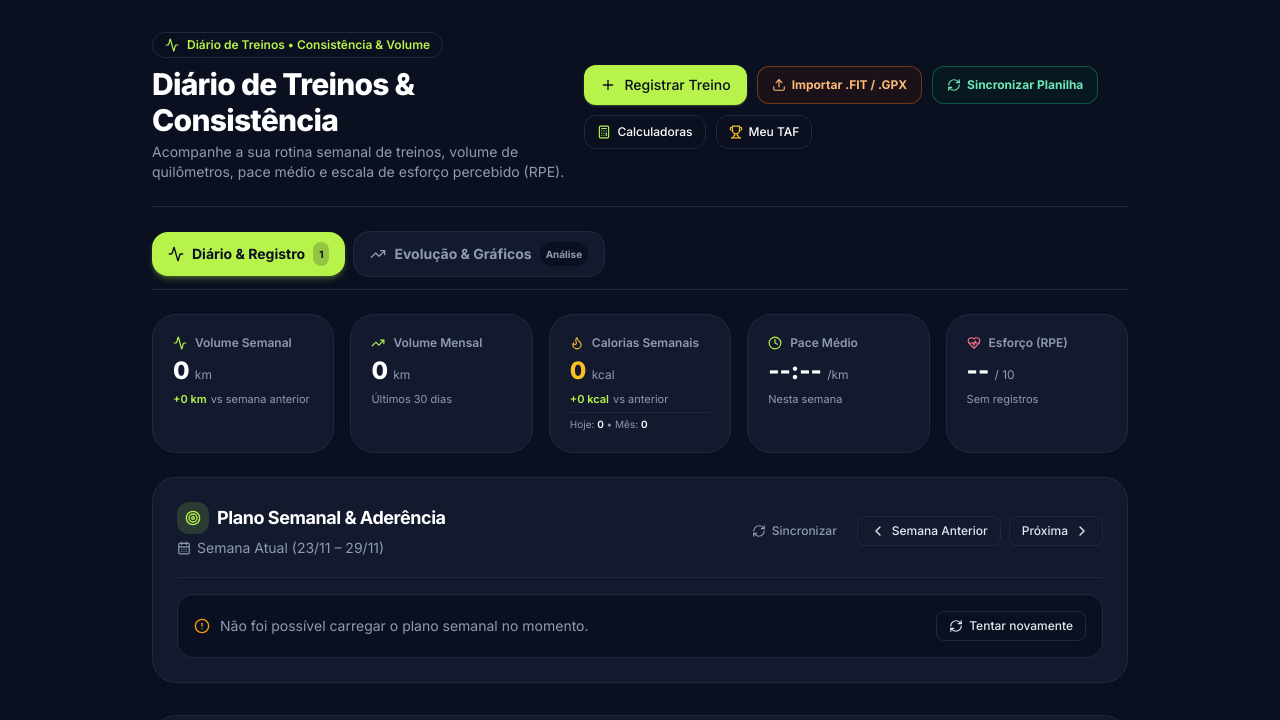
it: Fase 6 — Frontend & UX: Sincronização Google Sheets › 3. Botão 'Sincronizar Planilha' em /treinos › executa sync bidirecional, exibe toast de resumo, limpa cache e recarrega lista
What coordinates should you click on to do the following:
click the button with test id "sync-sheets-btn"
I would click on:
 (1015, 85)
Its box is [932,66,1098,104].
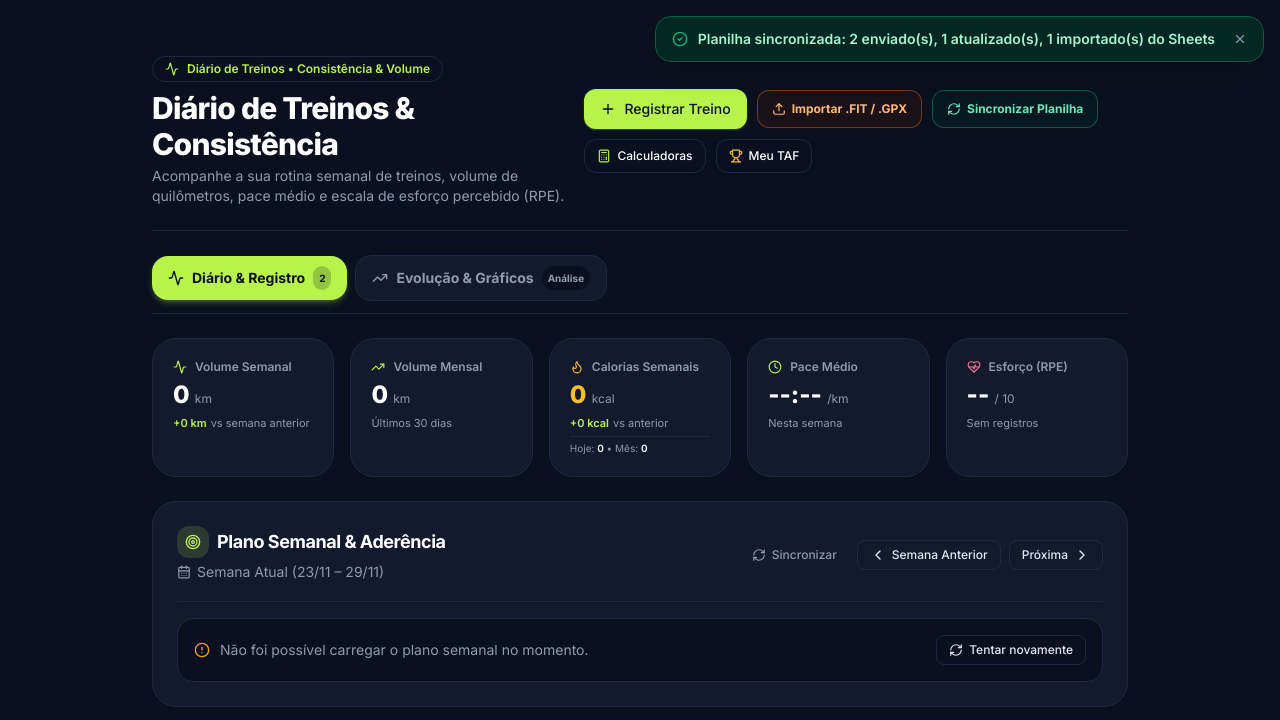
Now the element with test id "toast-notification" reads "Planilha sincronizada: 2 enviado(s), 1 atualizado(s), 1 importado(s) do Sheets", box [698,30,1215,47]
